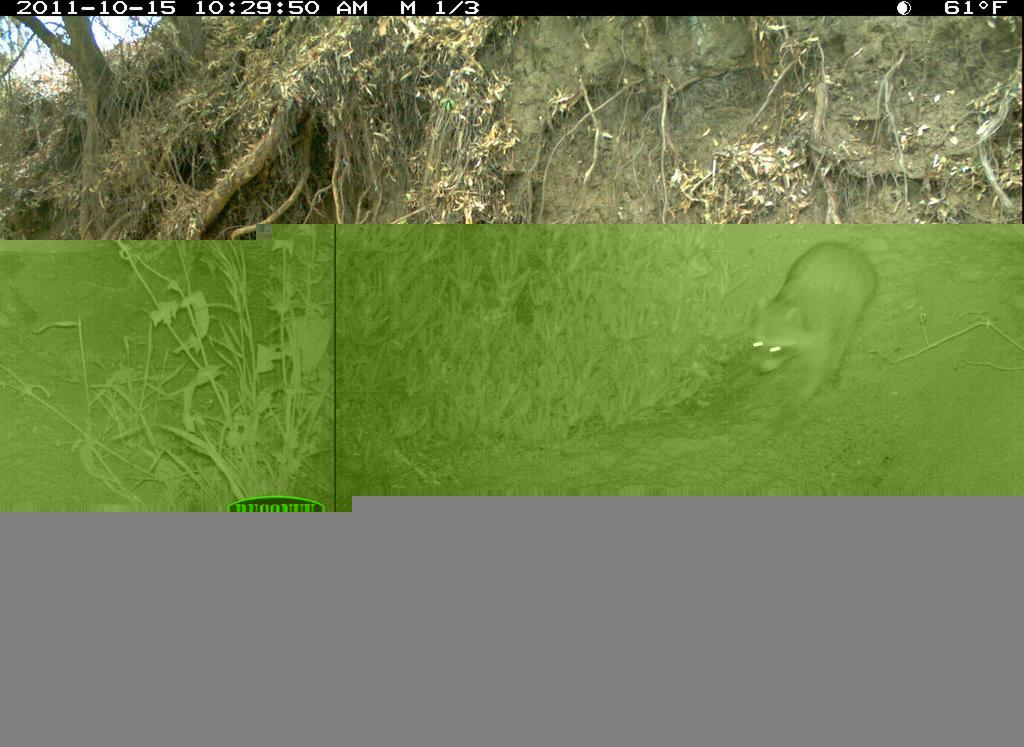squirrel: (1, 586, 212, 732)
